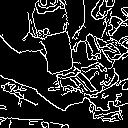cube: (42, 30, 76, 78)
